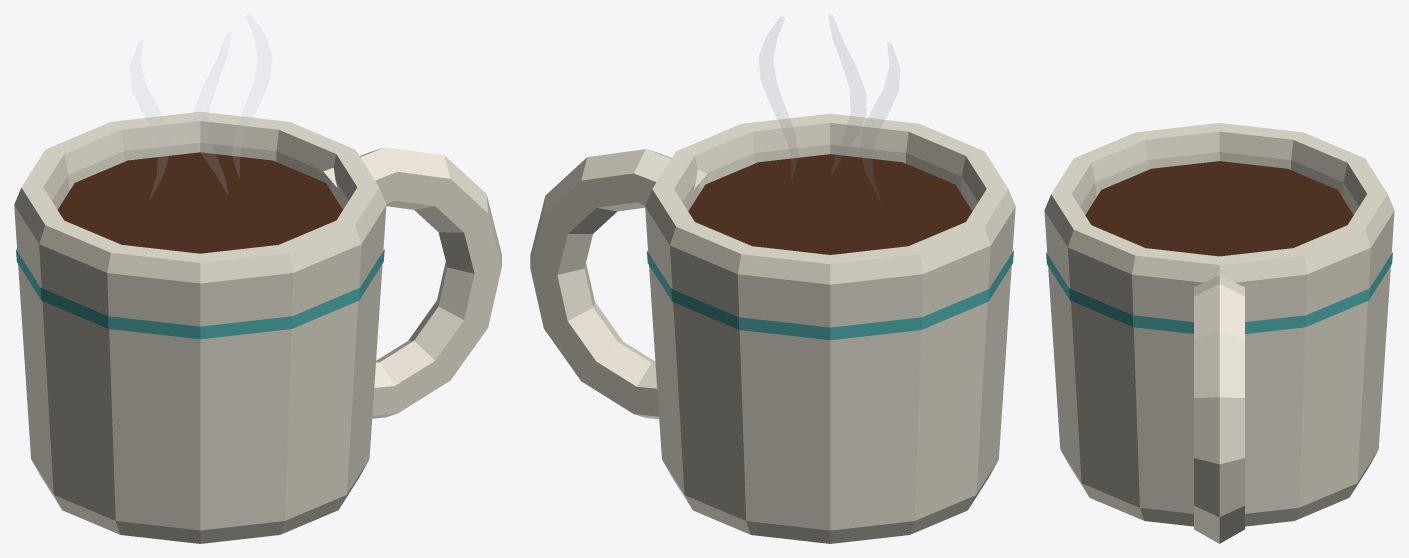
The model's file is workshop-mug-with-steam.glb.
The picture shows the model from 3 angles, left to right: view 1: azimuth 30°, elevation 25°; view 2: azimuth 150°, elevation 25°; view 3: azimuth 270°, elevation 25°; orthographic projection. The views are drawn at different scales.
Parts seen in each view (by area): view 1: Mug_Body, Coffee, Mug_Handle, Mug_Accent, Steam_1, Steam_2, Steam_3; view 2: Mug_Body, Coffee, Mug_Handle, Mug_Accent, Steam_3, Steam_1, Steam_2; view 3: Mug_Body, Coffee, Mug_Handle, Mug_Accent.
Part boxes in pixels (box(x1,y1,x2,y2)): Mug_Body: box(14, 111, 386, 543); Coffee: box(58, 152, 342, 253); Mug_Handle: box(319, 147, 501, 418); Mug_Accent: box(16, 249, 384, 339); Steam_1: box(130, 41, 170, 198); Steam_2: box(193, 33, 230, 193); Steam_3: box(233, 14, 271, 176); Mug_Body: box(645, 113, 1015, 543); Coffee: box(688, 154, 972, 254); Mug_Handle: box(530, 149, 710, 419); Mug_Accent: box(646, 250, 1013, 340); Steam_3: box(759, 17, 797, 178); Steam_1: box(860, 43, 899, 200); Steam_2: box(829, 15, 865, 174); Mug_Body: box(1044, 123, 1394, 526); Coffee: box(1085, 161, 1353, 256); Mug_Handle: box(1194, 275, 1244, 543); Mug_Accent: box(1046, 252, 1392, 333).
Bounding box in the file's own units: 2.21 × 2.06 × 1.54.
